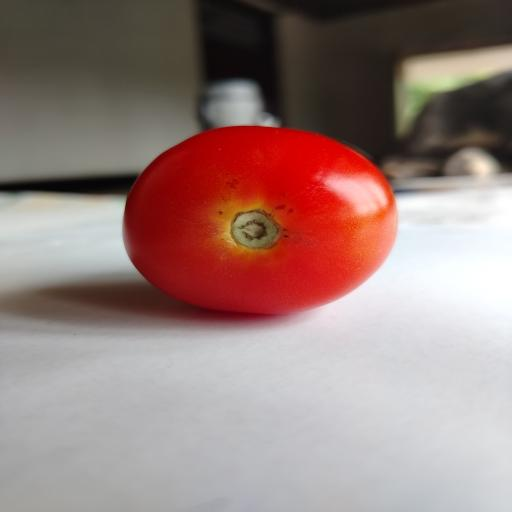ripe: (123, 126, 397, 313)
